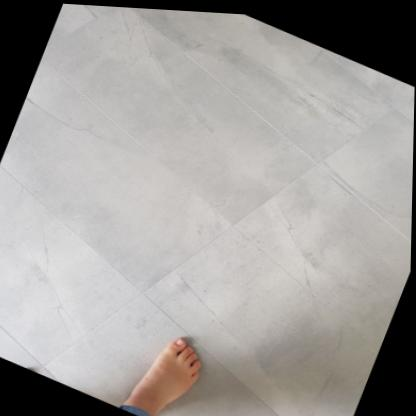Ceramic floor: (0, 3, 415, 416)
